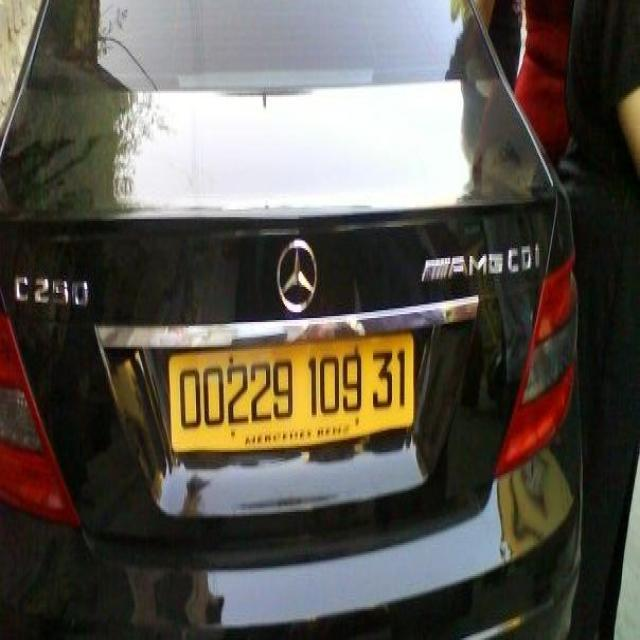Autre: (165, 350, 413, 441)
